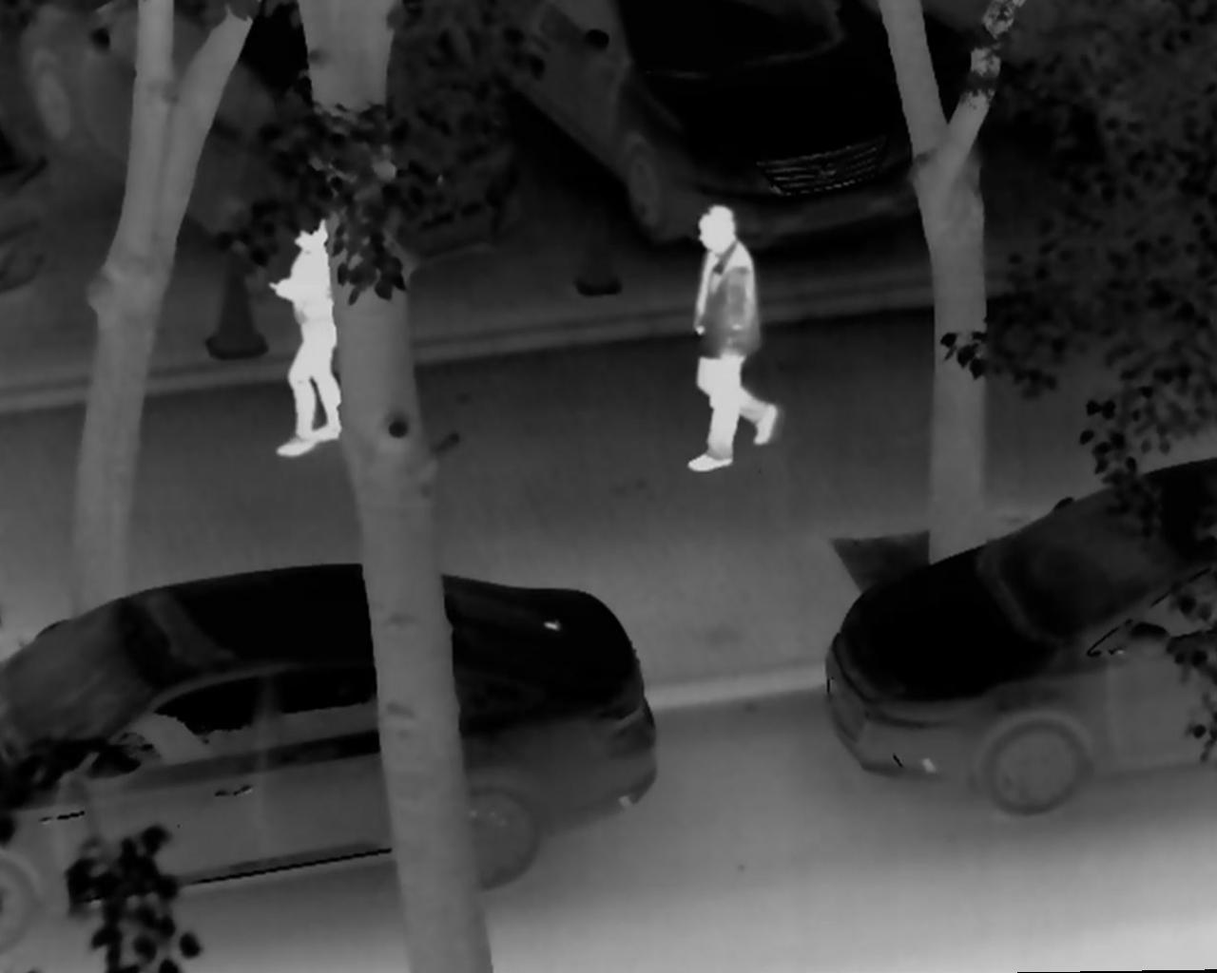person: (677, 200, 785, 476), (253, 193, 363, 463)
